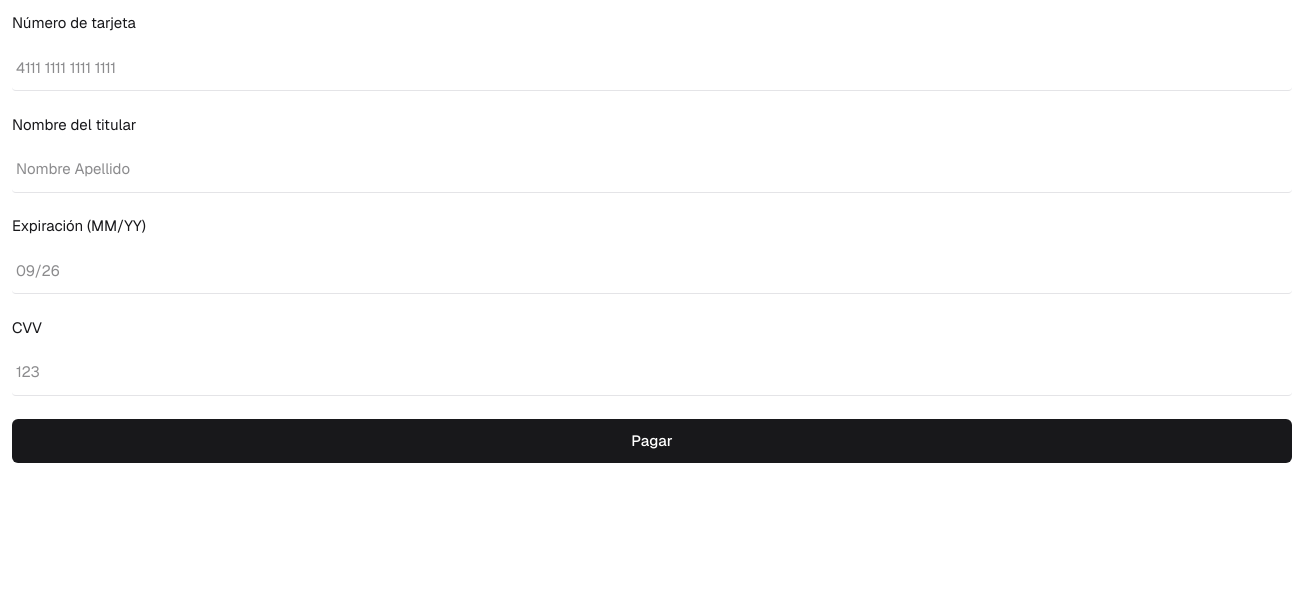
Test: PagoForm › muestra errores tras intentar enviar con datos inválidos
This screenshot has width=1304, height=602.
Click the button "Pagar": [652, 441] box [12,419,1292,463]
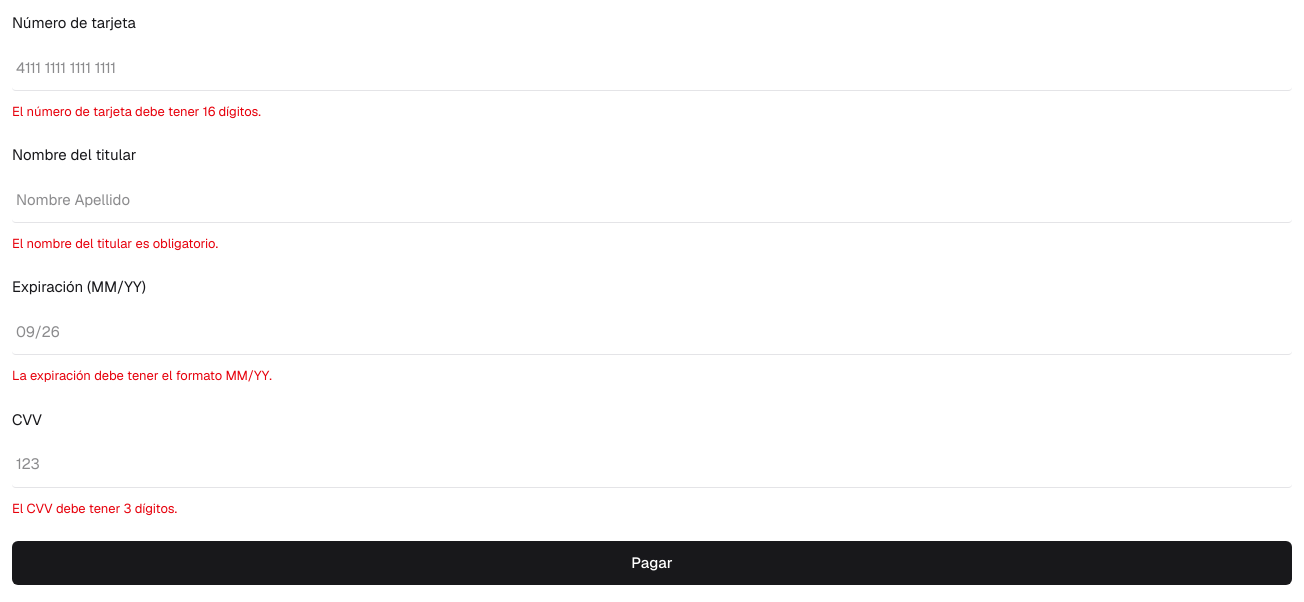
Check: the text "El número de tarjeta debe tener 16 dígitos." is shown, box [12,103,261,120]
